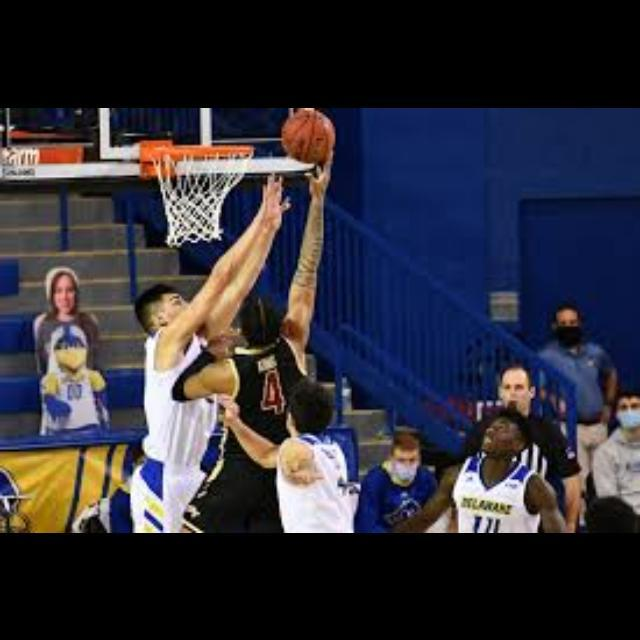basketball: (279, 110, 335, 164)
rim: (154, 145, 253, 241)
